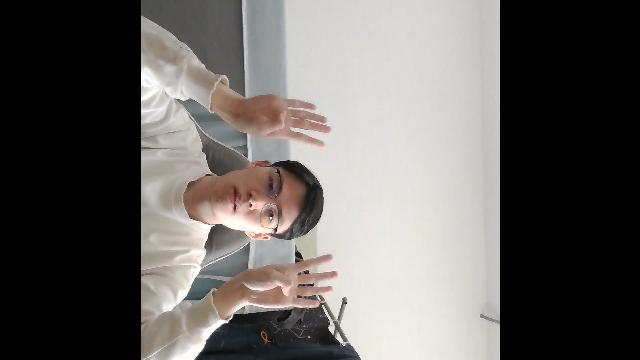four: (222, 90, 334, 148), (230, 253, 339, 310)
